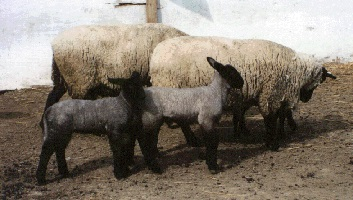sheep: (153, 33, 320, 163), (47, 13, 198, 117), (32, 76, 143, 188), (141, 64, 230, 198)
